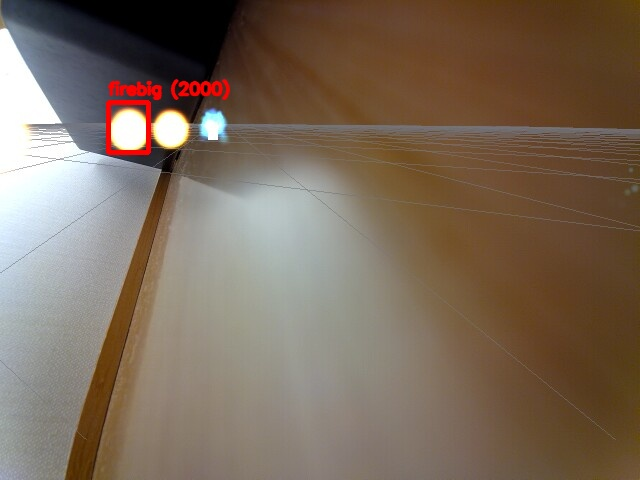firebig: (108, 102, 148, 152)
